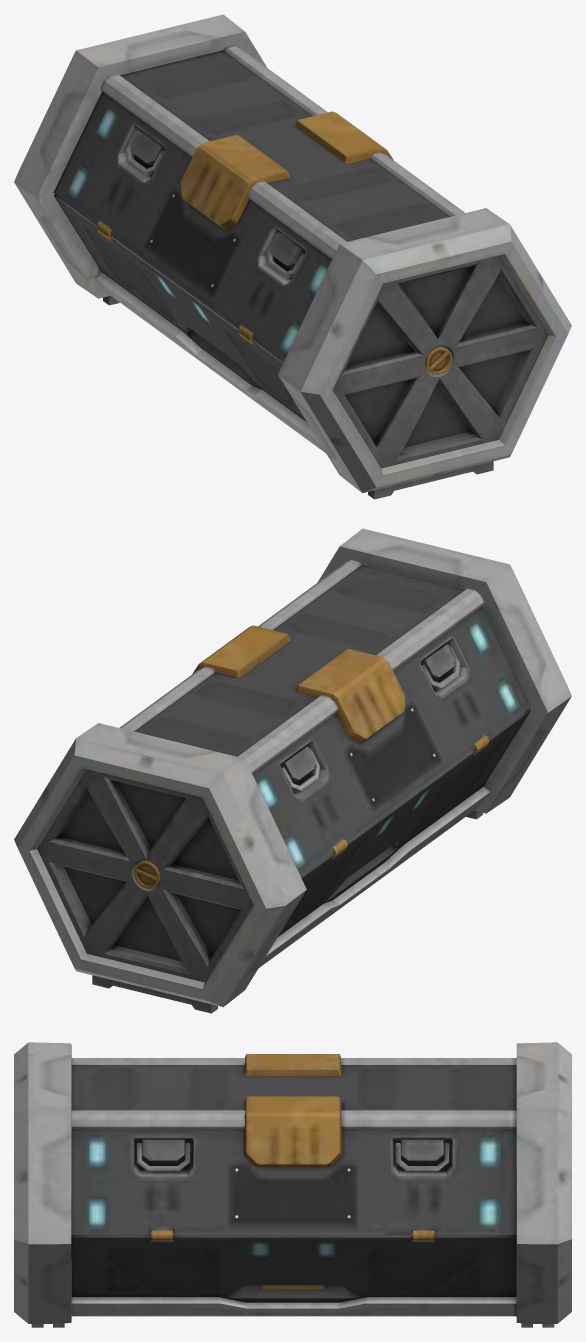
Rendered from SM_ChestFuturistic_8a0e6d.glb.
The picture shows the model from 3 angles, top to bottom: view 1: azimuth 30°, elevation 25°; view 2: azimuth 150°, elevation 25°; view 3: azimuth 270°, elevation 25°; orthographic projection. The views are drawn at different scales.
Size of the model in its own units: 1.72 by 1.48 by 3.31.
1 material, 1 textured.
